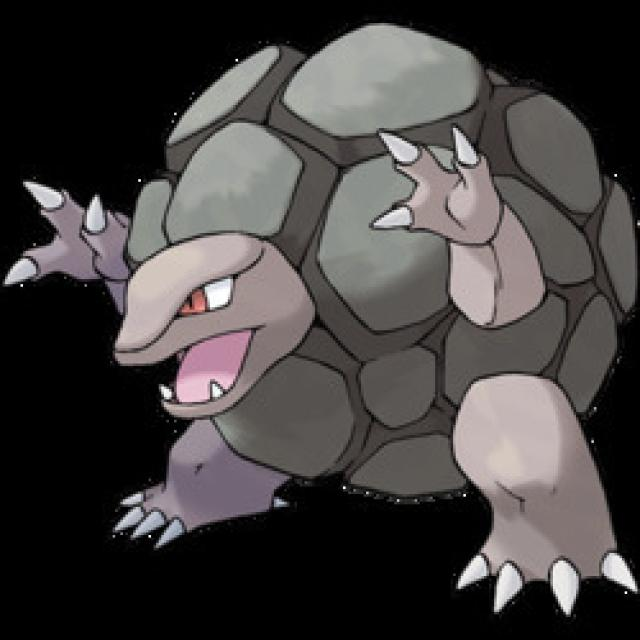Golem: (33, 8, 640, 560)
